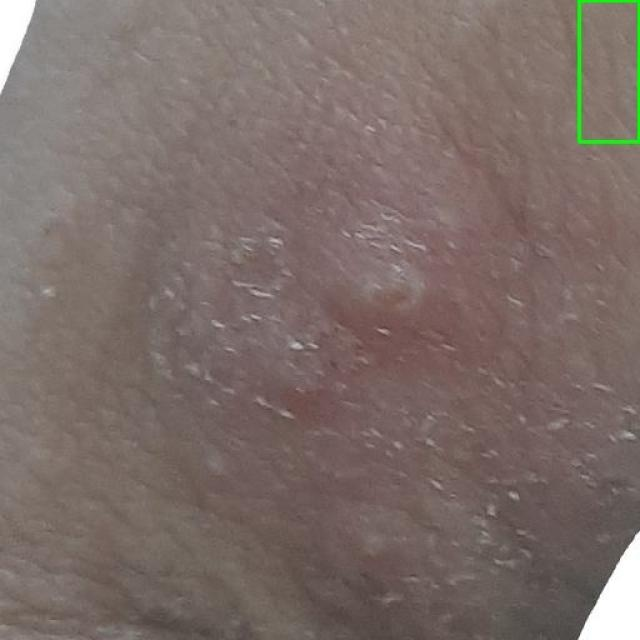Scabies: (579, 0, 639, 141)
